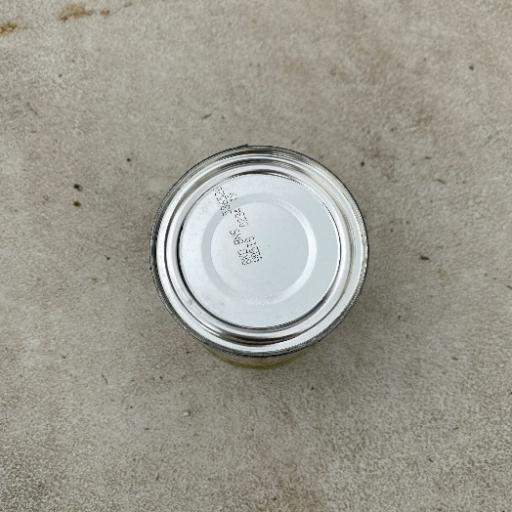Metal: (147, 142, 371, 369)
